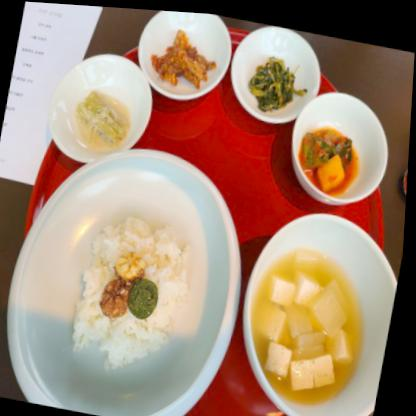miso soup: (242, 231, 378, 405)
radish Kimchi: (293, 110, 370, 196)
rice ball: (74, 206, 192, 363)
spinach greens: (245, 42, 305, 111)
